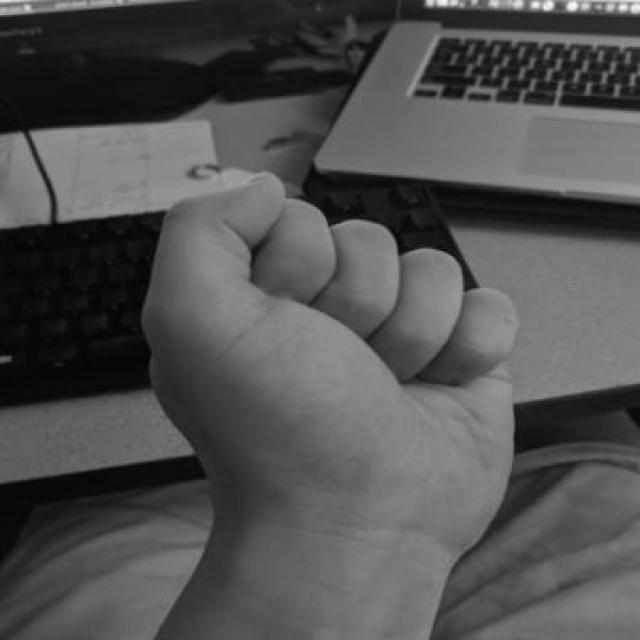A: (122, 167, 542, 576)
